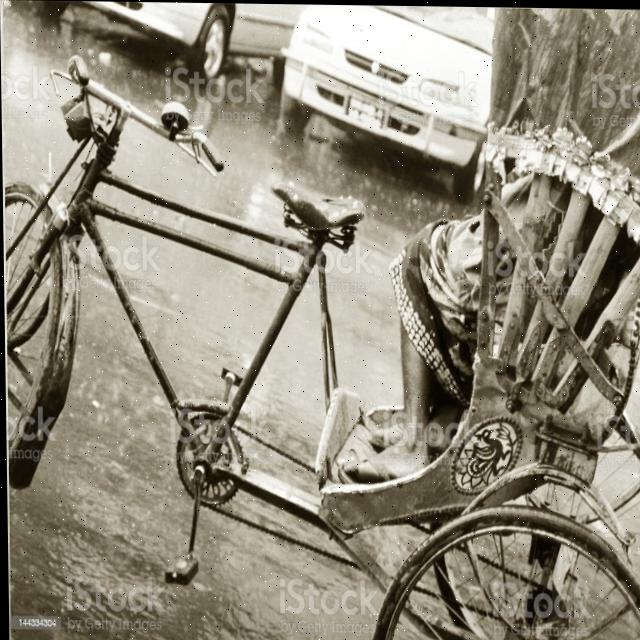rikshaw: (0, 0, 635, 640)
